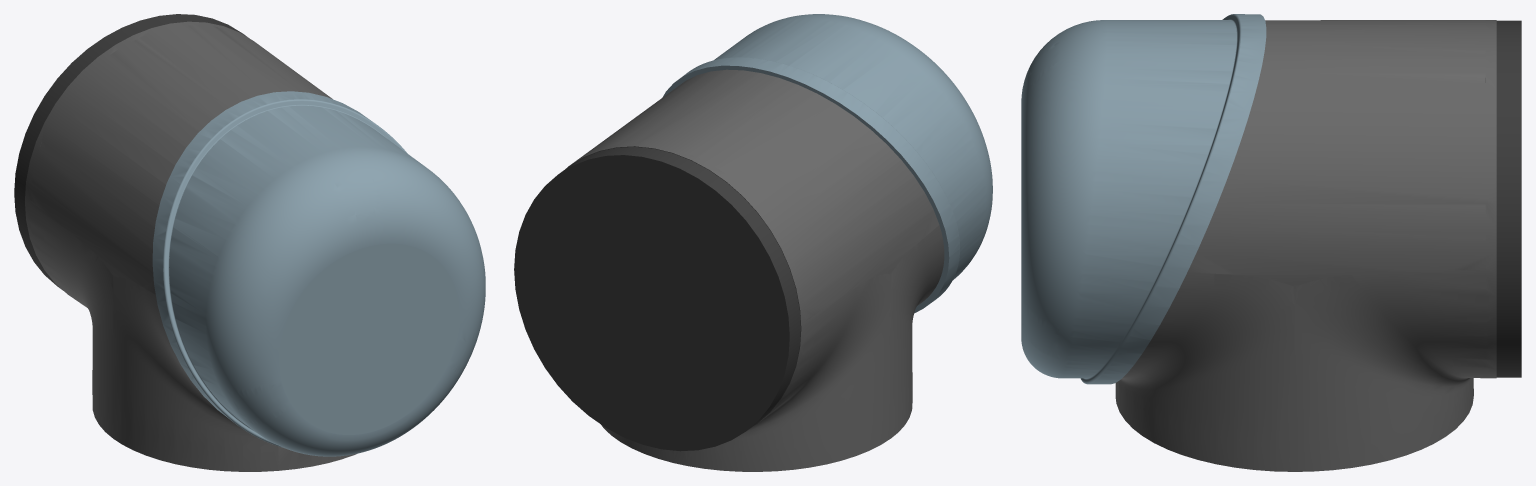
3 views of the same model, side by side, from view 1: azimuth 30°, elevation 25°; view 2: azimuth 150°, elevation 25°; view 3: azimuth 270°, elevation 25° (orthographic). The views are drawn at different scales.
Visible parts, largest first — view 1: ActorShape1_0-Mesh_020-mesh, ActorShape0_0-Mesh_026-mesh_1, ActorShape0_0-Mesh_026-mesh; view 2: ActorShape0_0-Mesh_026-mesh, ActorShape0_0-Mesh_026-mesh_1, ActorShape1_0-Mesh_020-mesh; view 3: ActorShape0_0-Mesh_026-mesh_1, ActorShape1_0-Mesh_020-mesh, ActorShape0_0-Mesh_026-mesh.
Boxes of the visible parts, x1,y1,x2,y2 form: ActorShape1_0-Mesh_020-mesh: [152, 91, 485, 456]; ActorShape0_0-Mesh_026-mesh_1: [25, 21, 356, 471]; ActorShape0_0-Mesh_026-mesh: [14, 14, 246, 290]; ActorShape0_0-Mesh_026-mesh: [514, 146, 801, 451]; ActorShape0_0-Mesh_026-mesh_1: [571, 69, 944, 471]; ActorShape1_0-Mesh_020-mesh: [662, 14, 992, 313]; ActorShape0_0-Mesh_026-mesh_1: [1115, 20, 1496, 471]; ActorShape1_0-Mesh_020-mesh: [1021, 14, 1266, 384]; ActorShape0_0-Mesh_026-mesh: [1496, 20, 1521, 377].
Bounding box in the file's own units: 0.0775 × 0.0842 × 0.1047.
